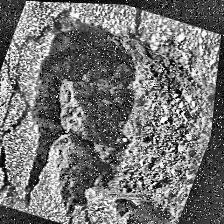pothole: (0, 6, 224, 224)
